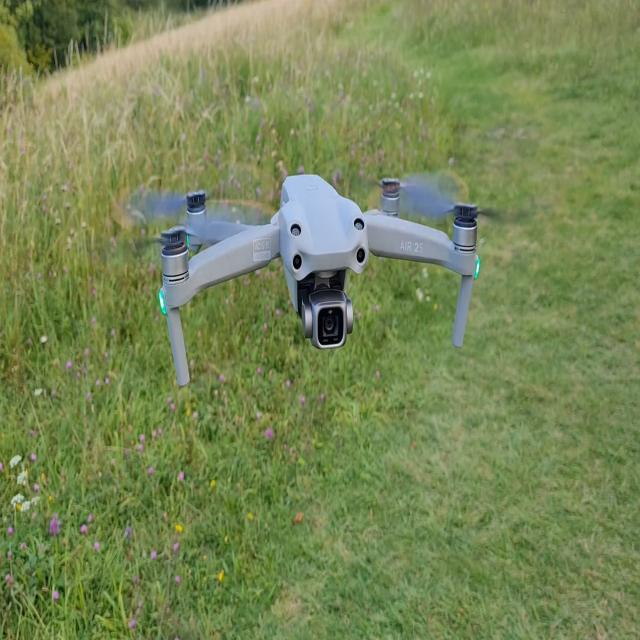drone: (119, 171, 495, 387)
